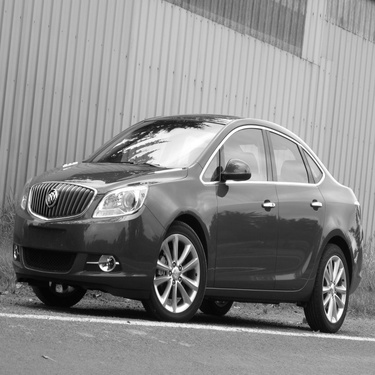car: (6, 105, 368, 336)
